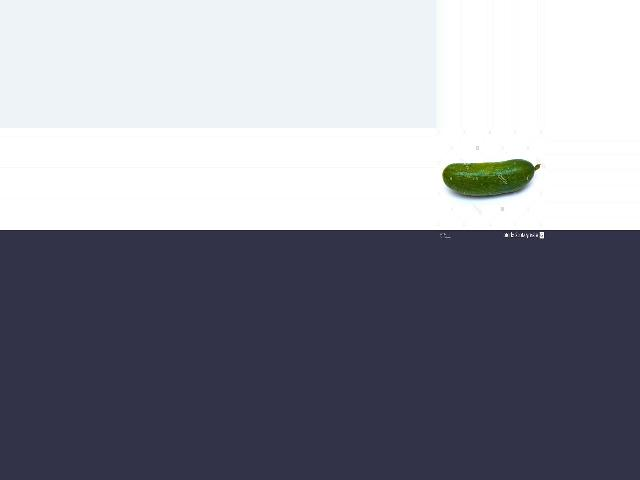cucumber: (441, 159, 540, 196)
